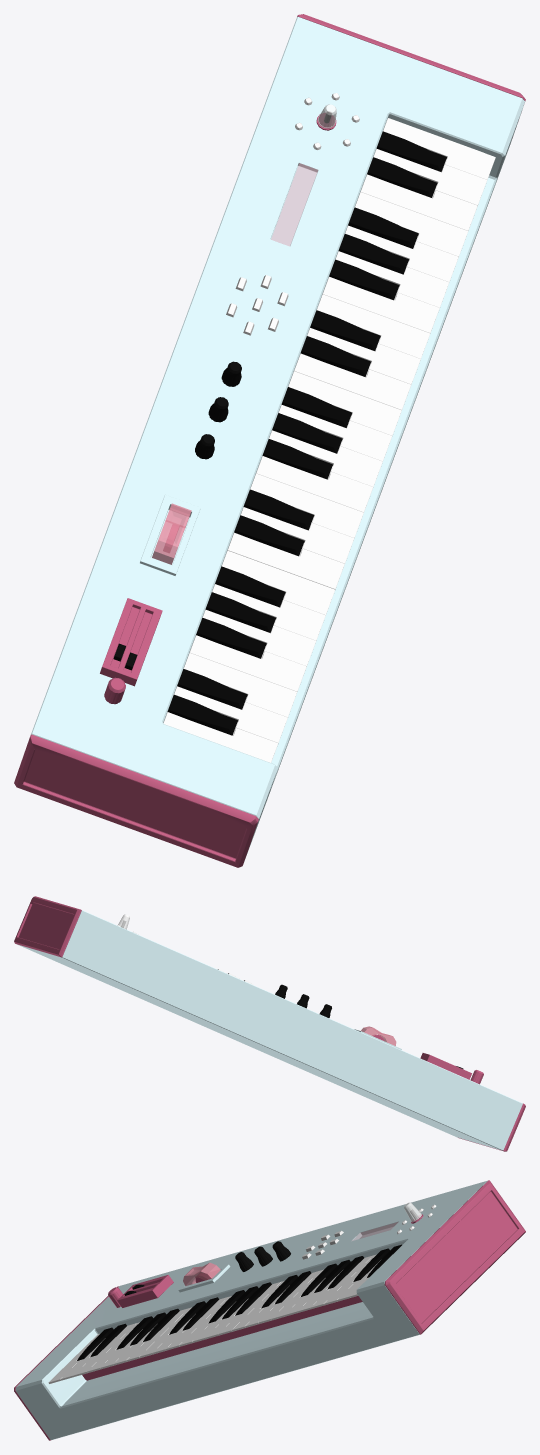
Rendered from piano_final_rotate.glb.
3 views of the same model, one above another, from view 1: azimuth 30°, elevation 25°; view 2: azimuth 150°, elevation 25°; view 3: azimuth 270°, elevation 25° (orthographic). The views are drawn at different scales.
Size of the model in its own units: 21.39 by 15.94 by 19.08.
